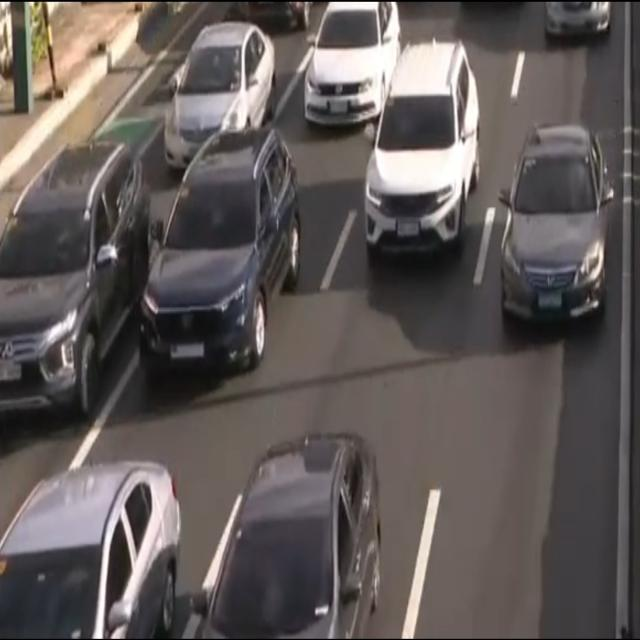SUV: (0, 134, 150, 432), (141, 135, 300, 374), (364, 39, 482, 262)
Sedan: (194, 433, 386, 640), (0, 448, 187, 640), (498, 119, 610, 327), (161, 19, 279, 168), (304, 2, 397, 124)
